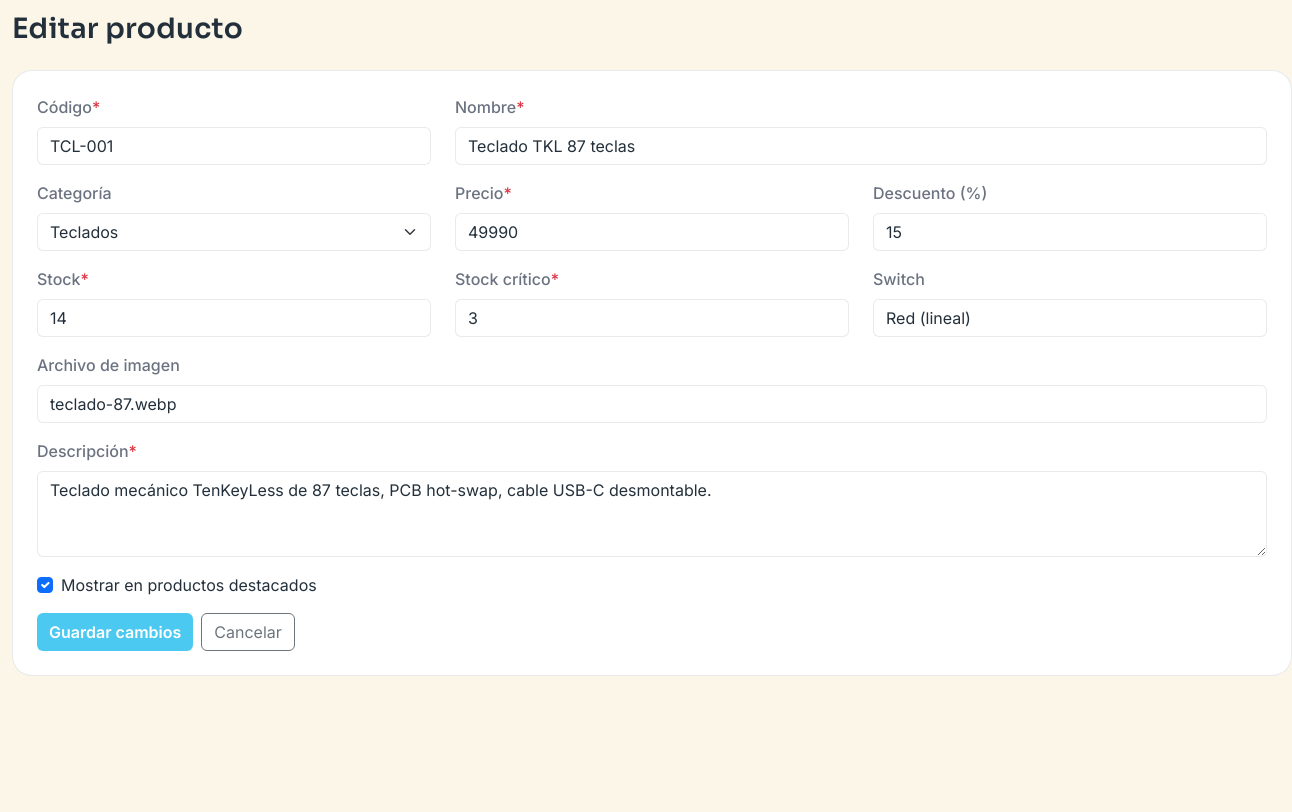
Test case: ProductoForm › avisa al usuario cuando el formulario tiene campos inválidos
This screenshot has width=1292, height=812.
Step 1. Clear the number field labelled "Stock*" → {"x": 234, "y": 318}, box [37, 299, 431, 337]
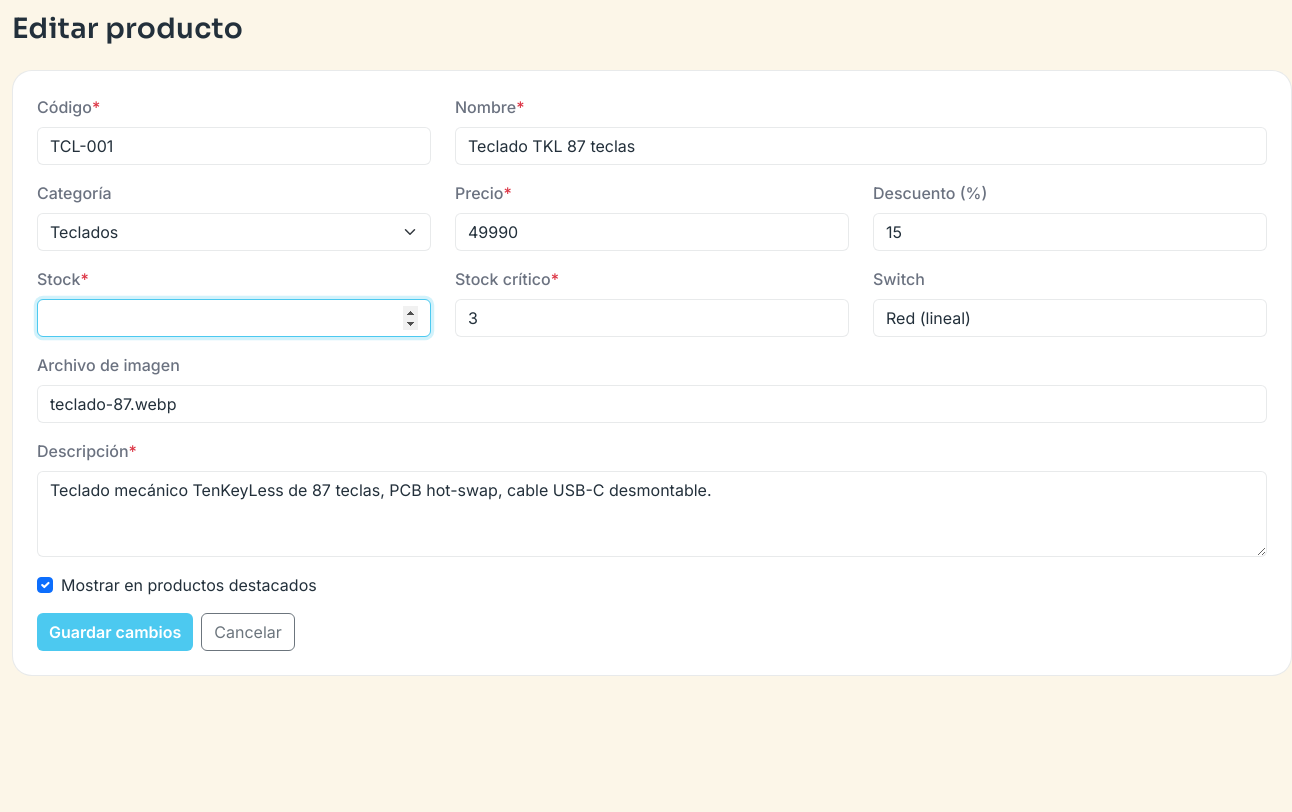
Step 2. Click the button "Guardar cambios" → {"x": 115, "y": 632}, box [37, 613, 193, 651]
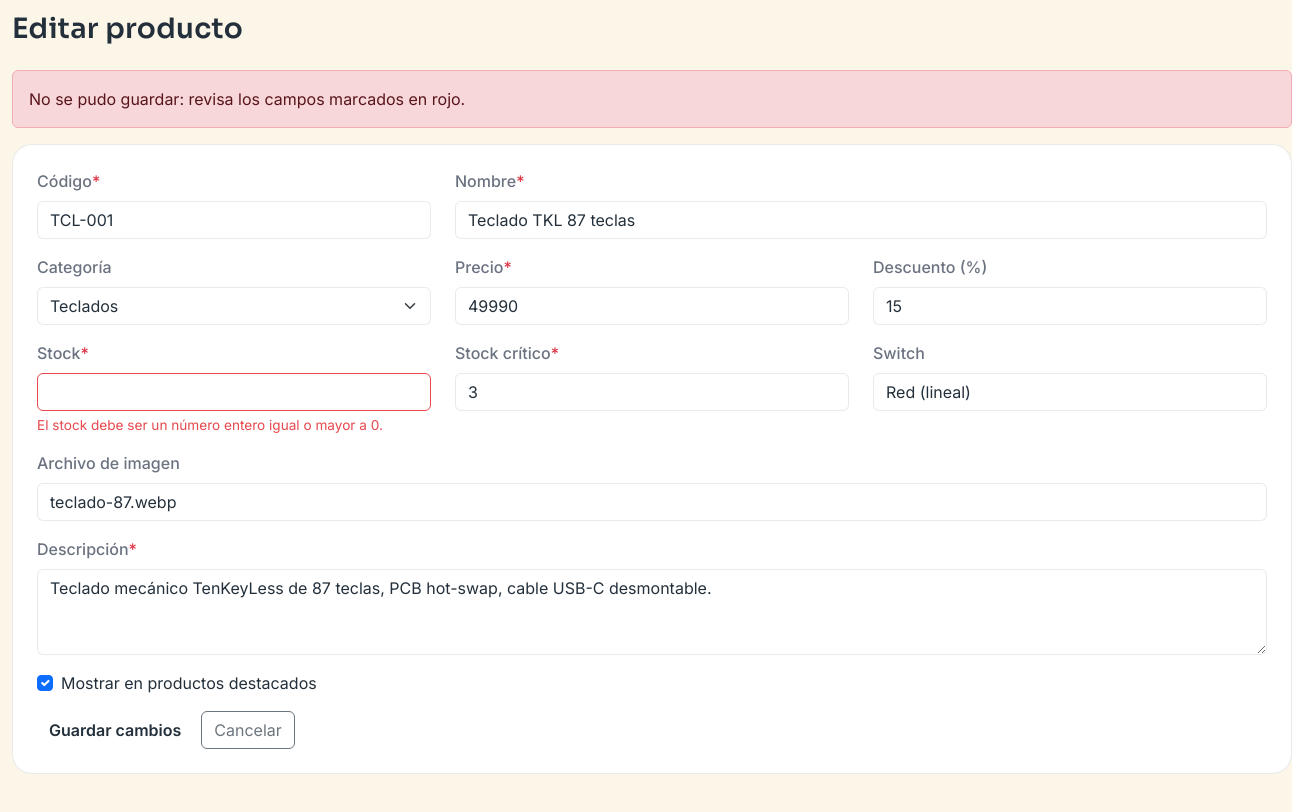
Now the message shows "No se pudo guardar", box [29, 89, 465, 109]
